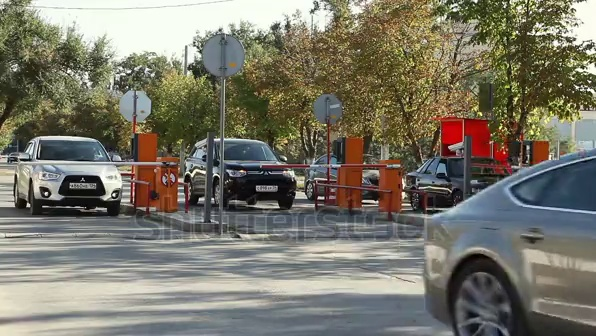licenseplate: (69, 181, 97, 192), (255, 182, 279, 194)
